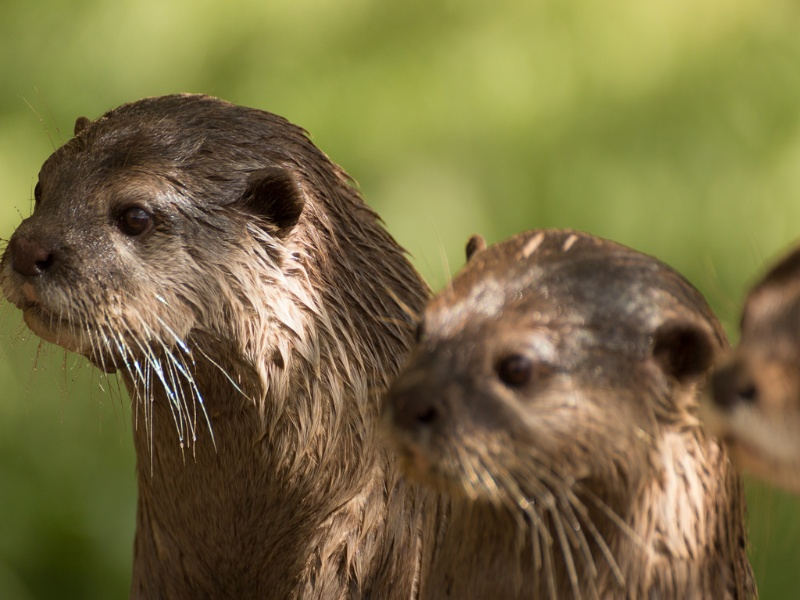minkish: (15, 101, 444, 592), (393, 224, 762, 600)
